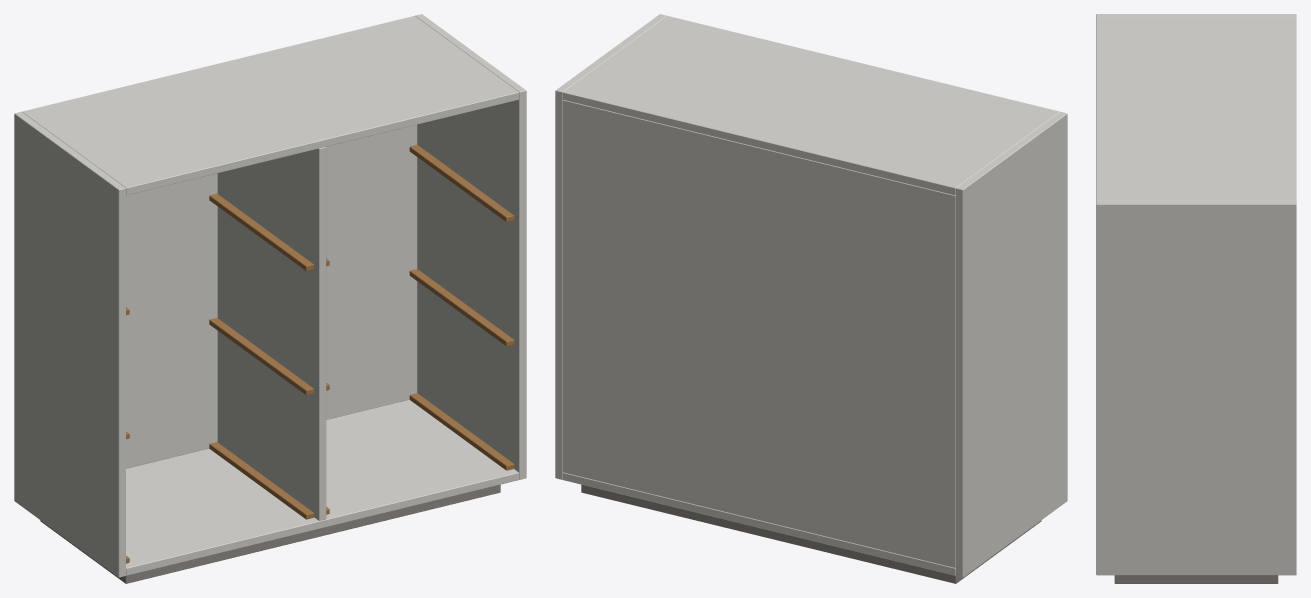
File: kids_storage_frame_bins_body.glb
3 renders of one model, left to right at view 1: azimuth 30°, elevation 25°; view 2: azimuth 150°, elevation 25°; view 3: azimuth 270°, elevation 25°, orthographic. The views are drawn at different scales.
Parts seen in each view (by area): view 1: kids_storage_frame_bins_body.001; view 2: kids_storage_frame_bins_body.001; view 3: kids_storage_frame_bins_body.001.
Part boxes in pixels (x1,y1,x2,y2): kids_storage_frame_bins_body.001: (14, 14, 526, 583); kids_storage_frame_bins_body.001: (555, 14, 1067, 583); kids_storage_frame_bins_body.001: (1096, 14, 1296, 583).
Size of the model in its own units: 0.99 by 0.94 by 0.44.
